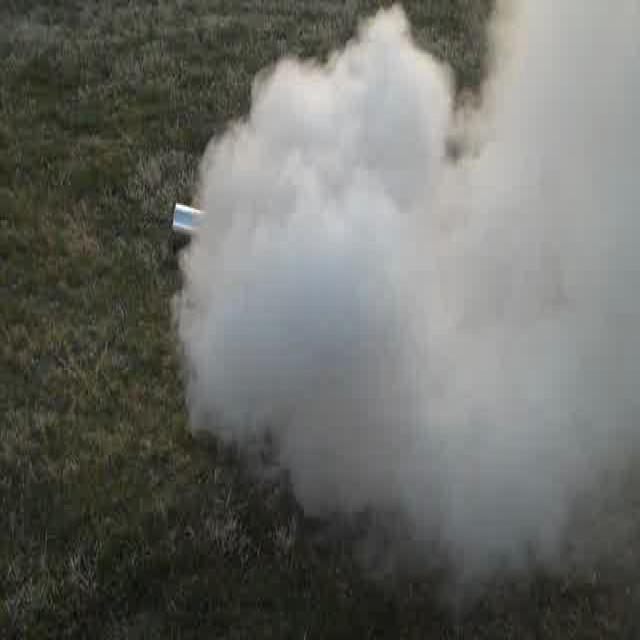Smoke: (201, 8, 638, 512)
